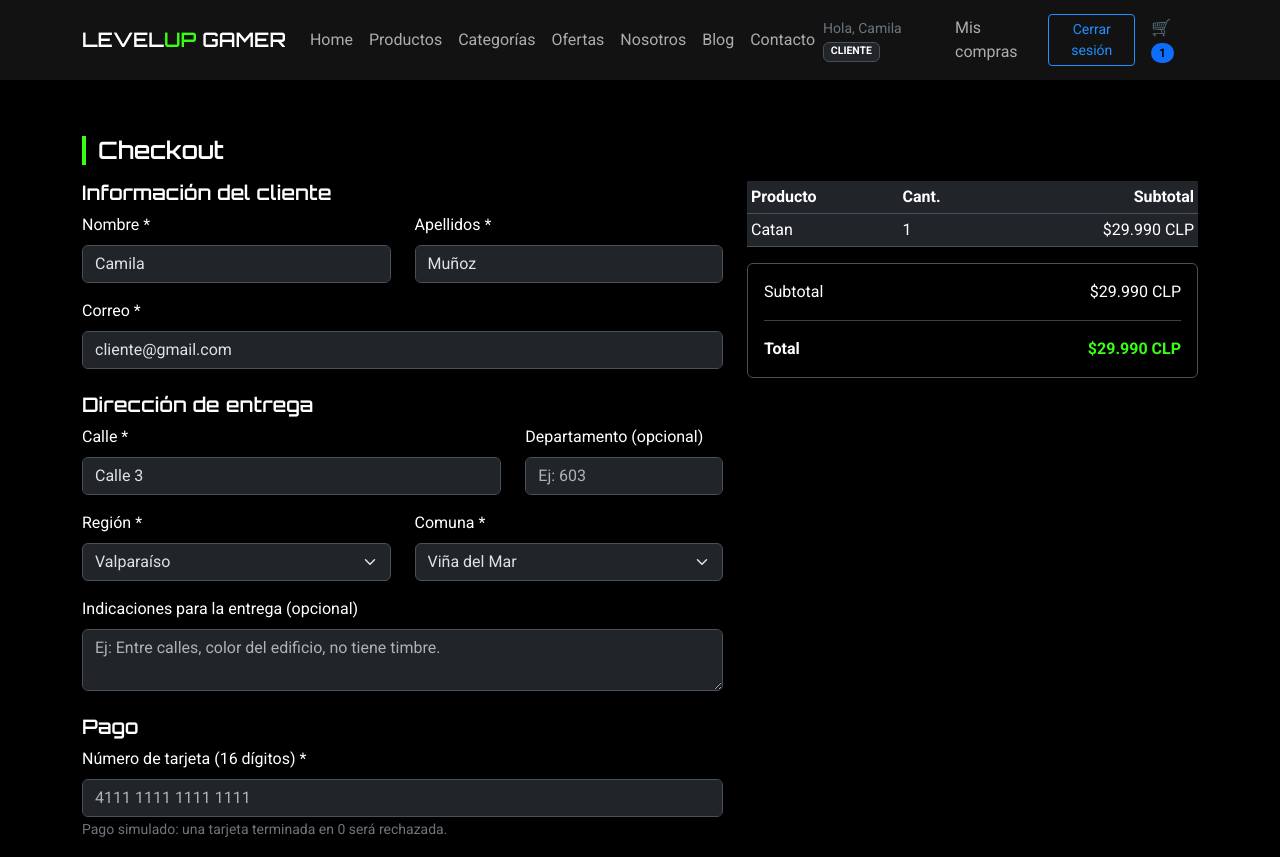
Test case: Checkout contra la API › pago rechazado: muestra el aviso y conserva el carrito
Type "4111111111111110" into the field labelled "Número de tarjeta (16 dígitos) *" at [402, 798], box [82,779,723,817]
(page scrolled)
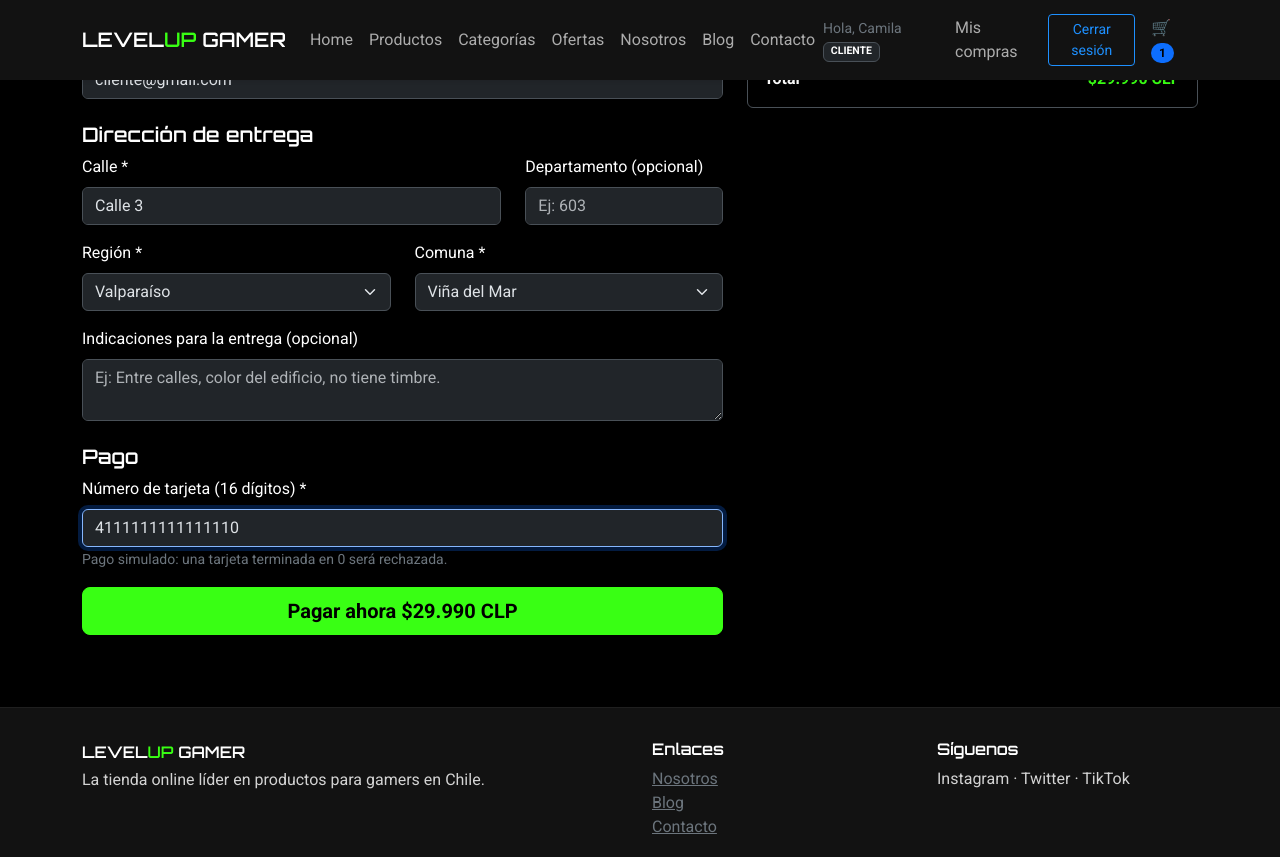
Click the button "Pagar ahora $29.990 CLP" at [402, 611], box [82,587,723,635]
(page scrolled)
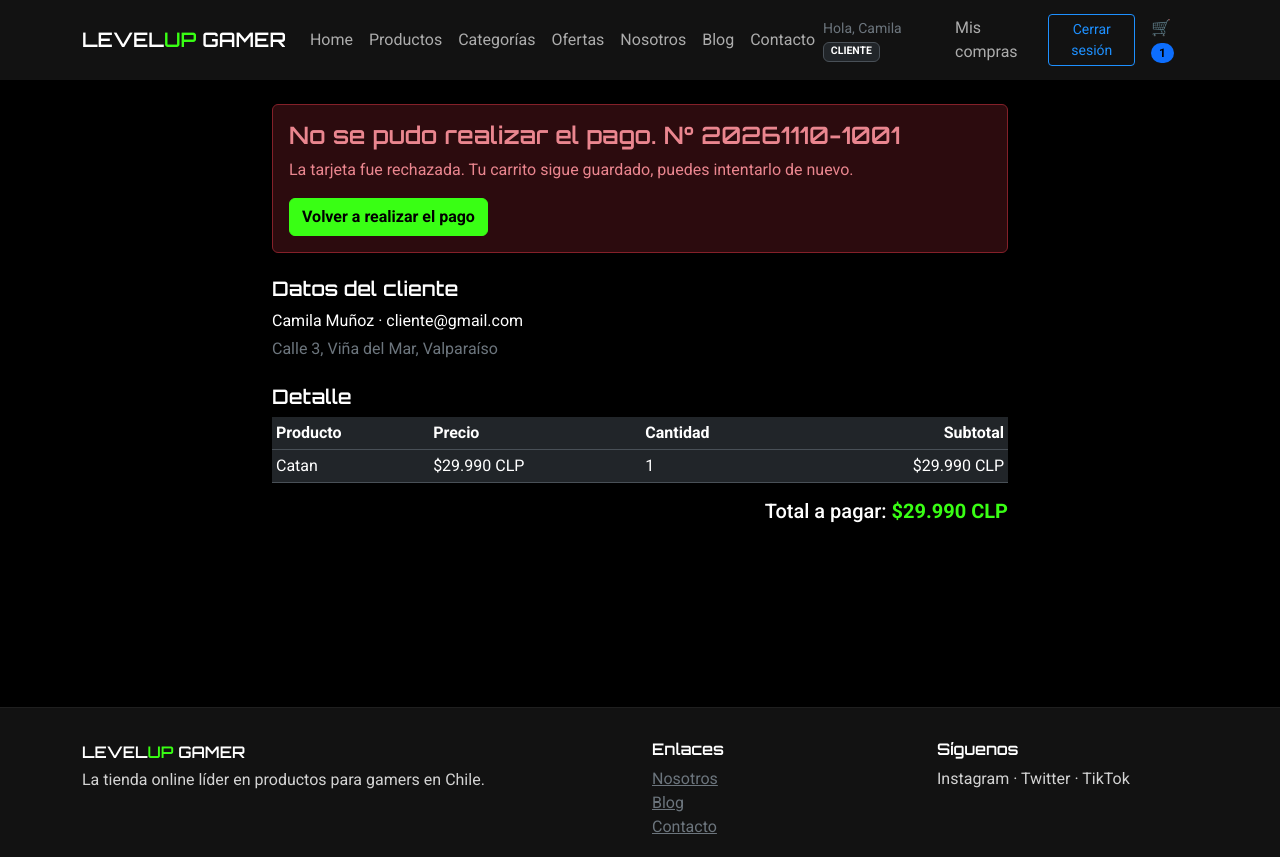
Expected: the text with test id "contador-carrito" reads "1", [1159,46,1166,60]
Expected: the heading "No se pudo realizar el pago. N° 20261110-1001" is shown, [289,121,991,150]
